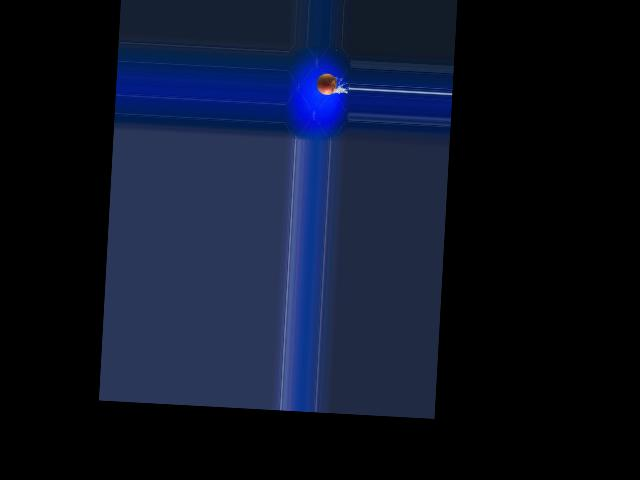tomato: (316, 72, 337, 95)
